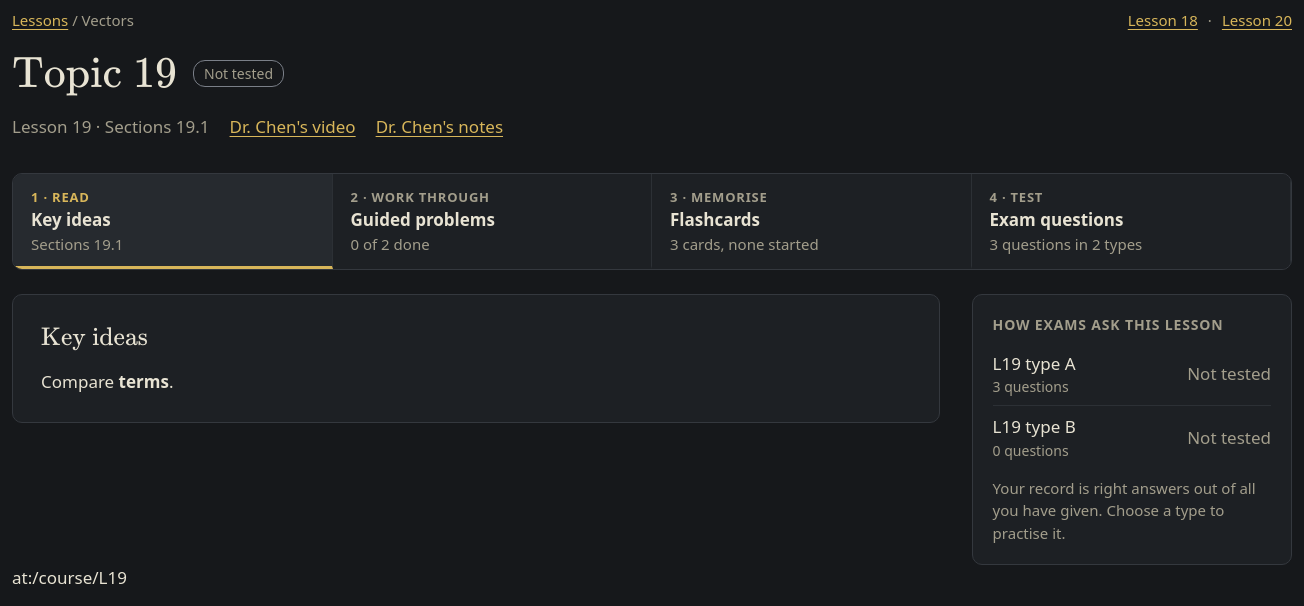
Scenario: four tabs in order, each saying what is in it, and only the open one is drawn
Expected: the heading "Topic 19" is shown, top-left (12, 48), bottom-right (177, 99)
Expected: the tab "2 · Work through Guided problems 0 of 2 done" is shown, top-left (332, 174), bottom-right (652, 269)
What coordinates should you click on to do the following:
click the tab "4 · Test Exam questions 3 questions in 2 types"
I would click on:
 (1016, 197)
Its box is top-left (972, 174), bottom-right (1291, 269).
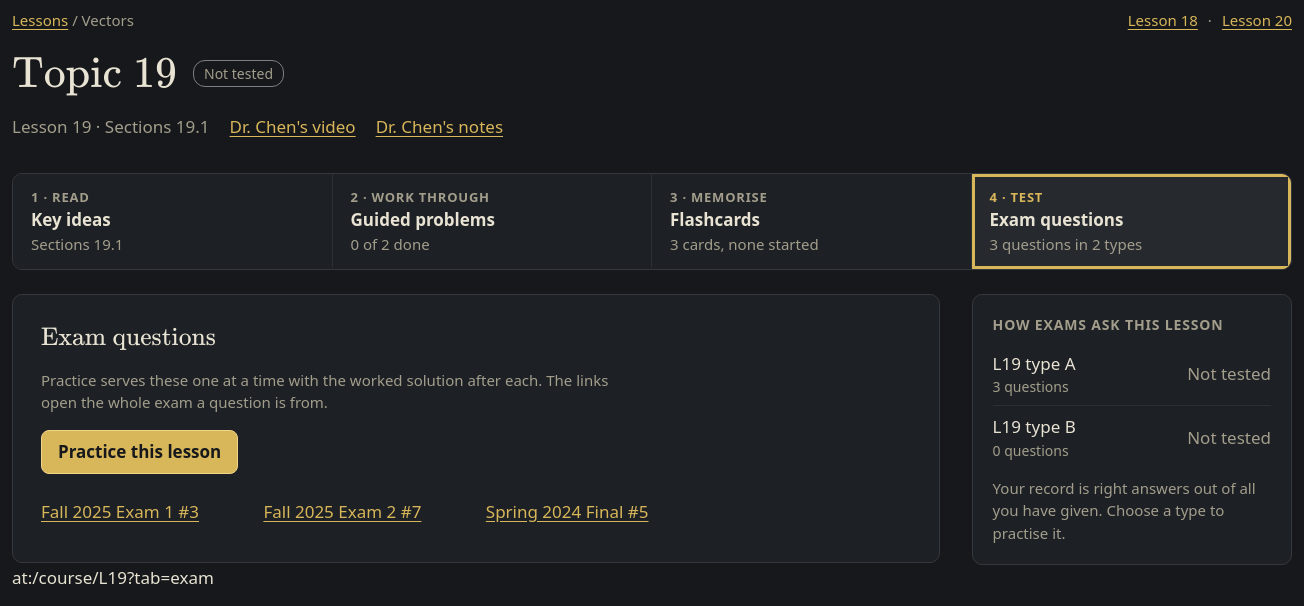
Now the text "at:/course/L19?tab=exam" is shown, box top-left (12, 566), bottom-right (214, 589)
Now the panel "Exam questions" is shown, box top-left (12, 294), bottom-right (940, 562)
Now the text "terms" is gone
